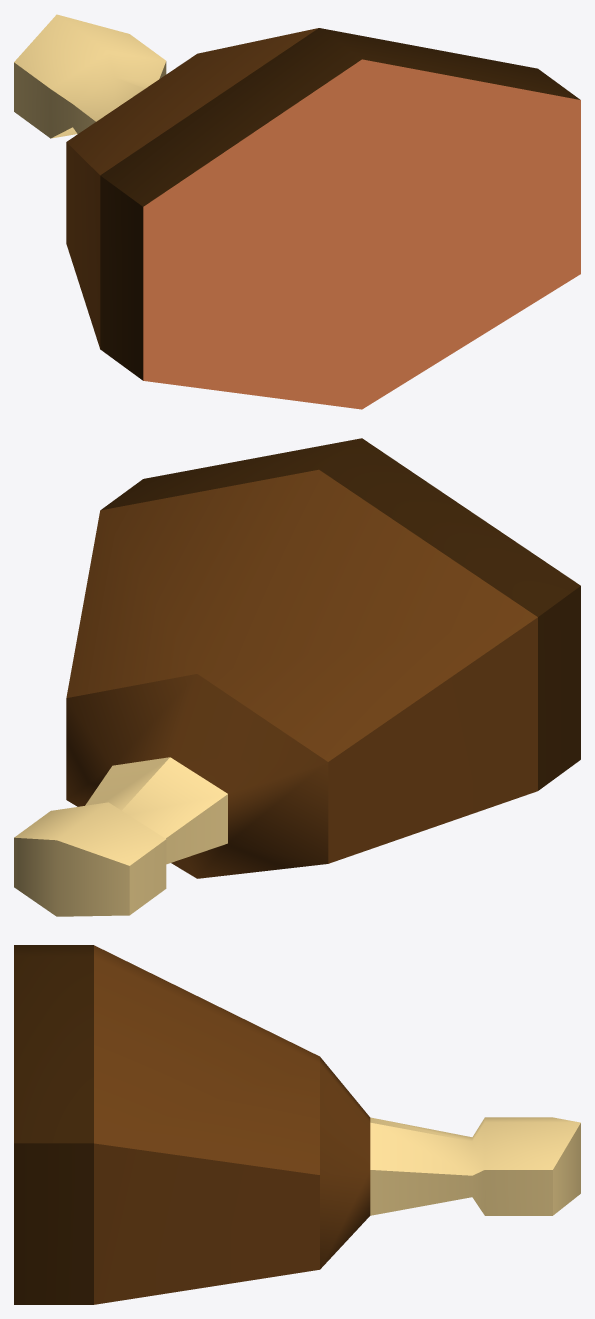
The model's file is ham.fbx.
The picture shows the model from 3 angles, top to bottom: view 1: azimuth 30°, elevation 25°; view 2: azimuth 150°, elevation 25°; view 3: azimuth 270°, elevation 25°; orthographic projection. The views are drawn at different scales.
Visible parts, largest first — view 1: pCube1; view 2: pCube1; view 3: pCube1.
Boxes of the visible parts, box(x1,y1,x2,y2) form: pCube1: box(14, 14, 580, 409); pCube1: box(14, 438, 580, 916); pCube1: box(14, 945, 580, 1304).
Size of the model in its own units: 10.35 by 7.91 by 12.5.
1 material, 1 textured.
